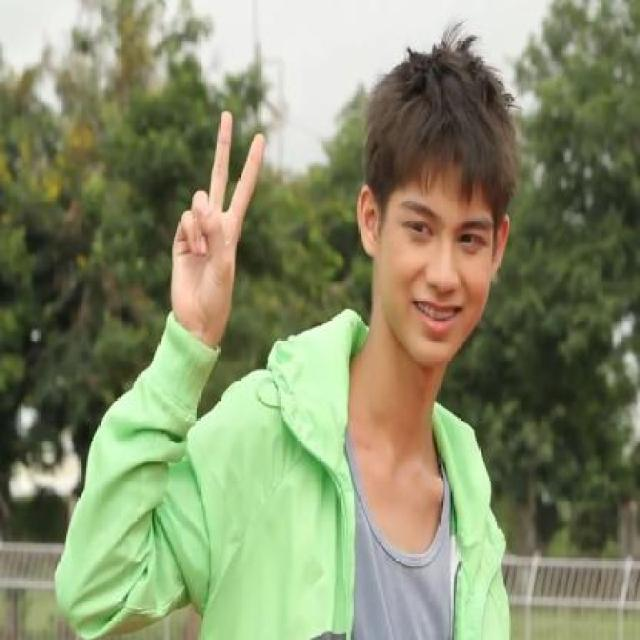sem_oculos: (357, 180, 528, 259)
